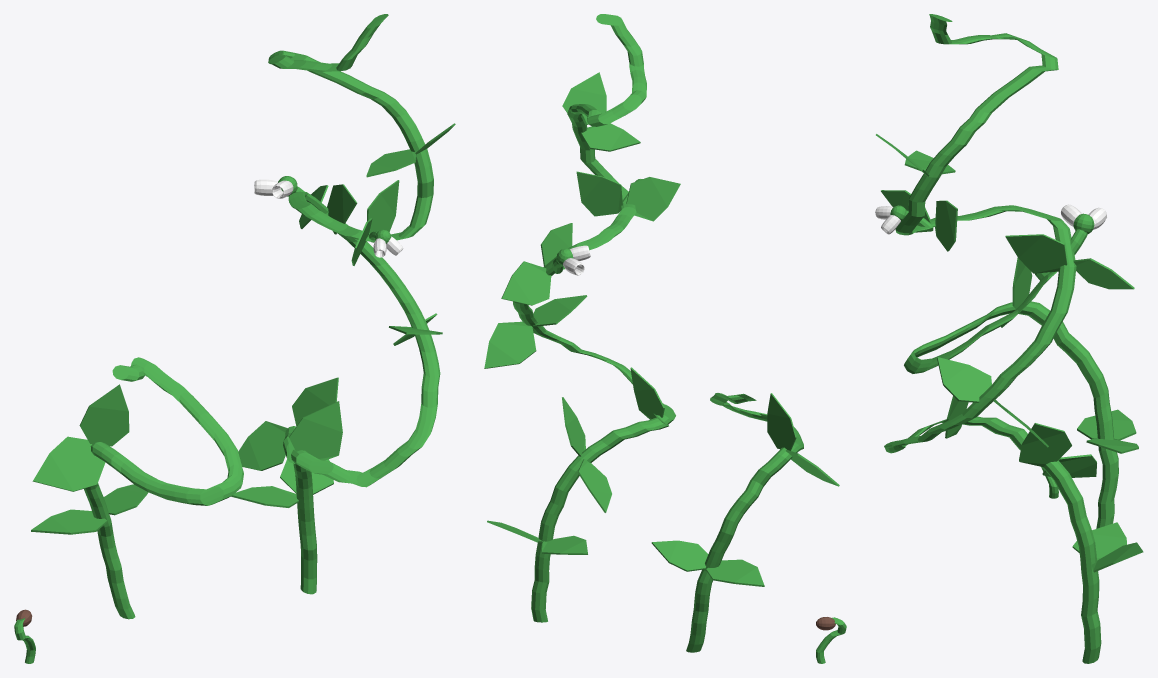
Rendered from BeansPlant.fbx.
3 renders of one model, left to right at view 1: azimuth 30°, elevation 25°; view 2: azimuth 150°, elevation 25°; view 3: azimuth 270°, elevation 25°, orthographic. The views are drawn at different scales.
Parts seen in each view (by area): view 1: group_593454466, group_784356287, group_1119190128, group_1775278049, group_984548434, group_548899004, group_240934923, group_958347264, group_1314509835, group_1270689859, group_1720075543, group_99075754 (+2 smaller); view 2: group_593454466, group_784356287, group_1401880161, group_1130329664, group_1314509835, group_1167035140, group_1720075543, group_1162574644, group_240934923, group_984548434, group_353628916, group_1775278049 (+5 smaller); view 3: group_593454466, group_784356287, group_99075754, group_1270990782, group_958347264, group_1167035140, group_1314509835, group_1270689859, group_240934923, group_548899004, group_984548434, group_1282675217 (+4 smaller).
Boxes of the visible parts, left/top/right/bottom form: group_593454466: left=268, top=14, right=440, bottom=594; group_784356287: left=84, top=357, right=243, bottom=619; group_1119190128: left=32, top=436, right=105, bottom=491; group_1775278049: left=289, top=401, right=342, bottom=460; group_984548434: left=79, top=384, right=129, bottom=446; group_548899004: left=238, top=421, right=287, bottom=470; group_240934923: left=31, top=509, right=107, bottom=534; group_958347264: left=292, top=377, right=338, bottom=425; group_1314509835: left=367, top=180, right=399, bottom=232; group_1270689859: left=231, top=486, right=298, bottom=507; group_1720075543: left=103, top=484, right=148, bottom=515; group_99075754: left=327, top=184, right=357, bottom=234; group_593454466: left=513, top=14, right=675, bottom=622; group_784356287: left=686, top=393, right=803, bottom=652; group_1401880161: left=484, top=321, right=536, bottom=368; group_1130329664: left=626, top=177, right=680, bottom=221; group_1314509835: left=576, top=171, right=622, bottom=216; group_1167035140: left=501, top=261, right=551, bottom=305; group_1720075543: left=651, top=540, right=708, bottom=571; group_1162574644: left=581, top=123, right=640, bottom=151; group_240934923: left=706, top=559, right=764, bottom=586; group_984548434: left=767, top=393, right=796, bottom=450; group_353628916: left=562, top=72, right=606, bottom=124; group_1775278049: left=630, top=367, right=664, bottom=419; group_593454466: left=884, top=14, right=1101, bottom=663; group_784356287: left=904, top=271, right=1118, bottom=528; group_99075754: left=1005, top=234, right=1067, bottom=273; group_1270990782: left=937, top=357, right=991, bottom=402; group_958347264: left=1019, top=423, right=1071, bottom=466; group_1167035140: left=1073, top=258, right=1134, bottom=289; group_1314509835: left=935, top=200, right=957, bottom=251; group_1270689859: left=1072, top=522, right=1126, bottom=560; group_240934923: left=1077, top=409, right=1136, bottom=440; group_548899004: left=1042, top=454, right=1096, bottom=477; group_984548434: left=1012, top=257, right=1032, bottom=308; group_1282675217: left=1091, top=542, right=1143, bottom=572.
Bounding box in the file's own units: 112 × 166 × 62.41.
